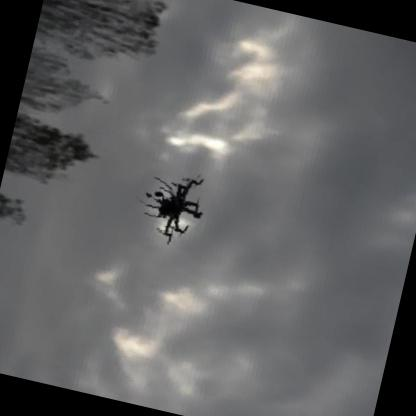drone: (123, 157, 217, 254)
